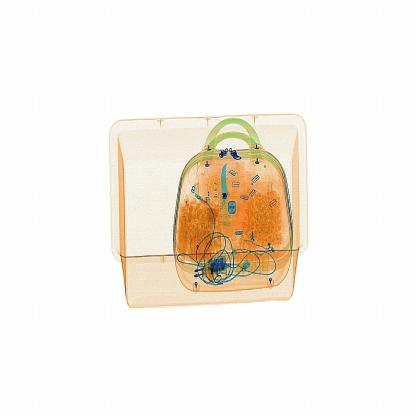wrench: (211, 151, 239, 231)
